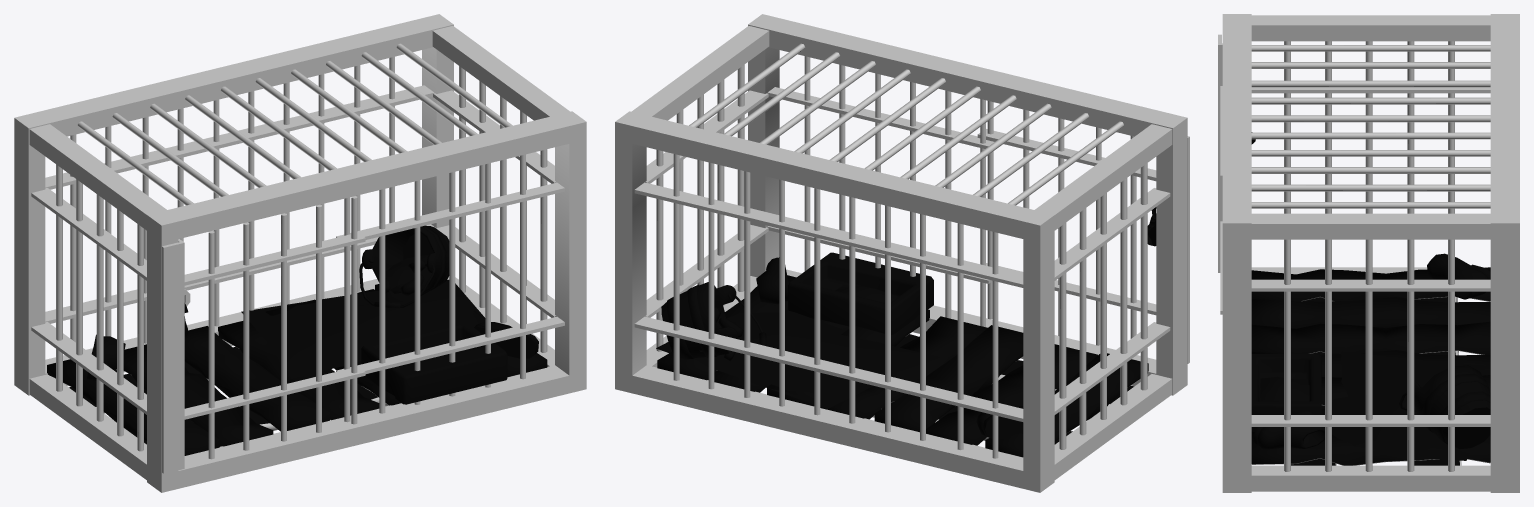
The model's file is cage_01.DAE.
3 renders of one model, left to right at view 1: azimuth 30°, elevation 25°; view 2: azimuth 150°, elevation 25°; view 3: azimuth 270°, elevation 25°, orthographic.
Visible parts, largest first — view 1: Object025, Object028, Object027, Plane002, Box004, bucket003, Object023; view 2: Object025, Object028, Plane002, Object027, Box004, bucket003; view 3: Object025, Object028, Plane002, bucket003, Object027, Box004, Object026.
Boxes of the visible parts, x1,y1,x2,y2 form: Object025: (14, 14, 586, 492); Object028: (47, 284, 547, 455); Object027: (162, 196, 365, 473); Plane002: (87, 279, 538, 380); Box004: (361, 346, 507, 404); bucket003: (362, 225, 449, 295); Object023: (385, 255, 431, 302); Object025: (615, 14, 1187, 492); Object028: (657, 252, 1148, 457); Plane002: (656, 257, 1023, 438); Object027: (977, 101, 1189, 363); Box004: (788, 278, 933, 334); bucket003: (661, 282, 737, 359); Object025: (1222, 14, 1519, 492); Object028: (1251, 267, 1490, 465); Plane002: (1253, 253, 1490, 460); bucket003: (1407, 365, 1490, 448); Object027: (1218, 34, 1222, 314); Box004: (1251, 356, 1321, 431); Object026: (1252, 296, 1490, 465).
Bounding box in the file's own units: 2.5 × 1.51 × 1.52.
